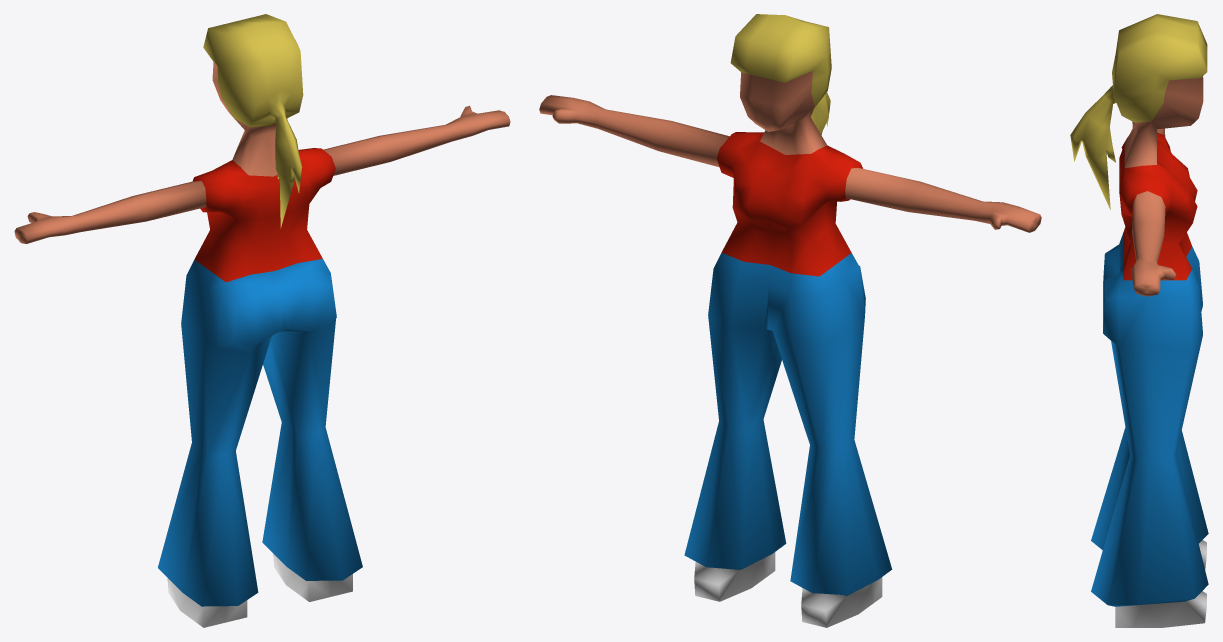
File: low poly girl.dae
3 renders of one model, left to right at view 1: azimuth 30°, elevation 25°; view 2: azimuth 150°, elevation 25°; view 3: azimuth 270°, elevation 25°, orthographic.
Parts seen in each view (by area): view 1: Cube; view 2: Cube; view 3: Cube.
Boxes of the visible parts, x1,y1,x2,y2 form: Cube: (14,14,510,627); Cube: (539,14,1041,627); Cube: (1070,14,1208,627).
Size of the model in its own units: 2.88 by 0.717 by 3.26.
